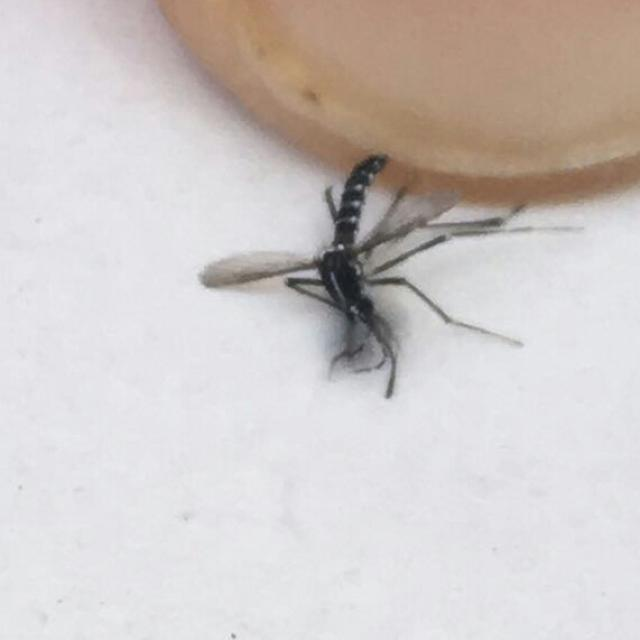albopictus: (208, 134, 560, 407)
